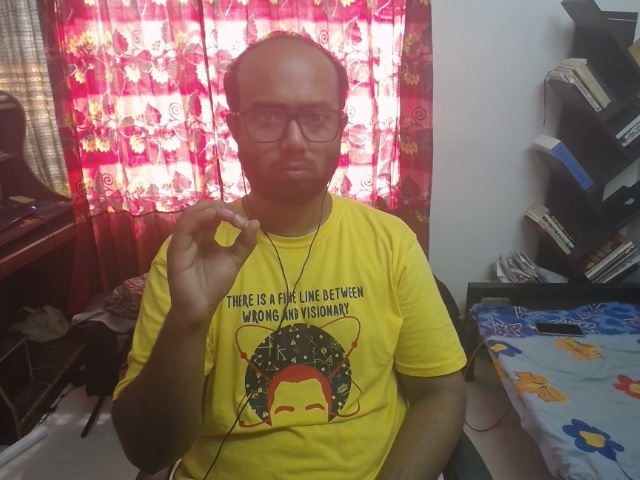zero: (129, 185, 305, 366)
